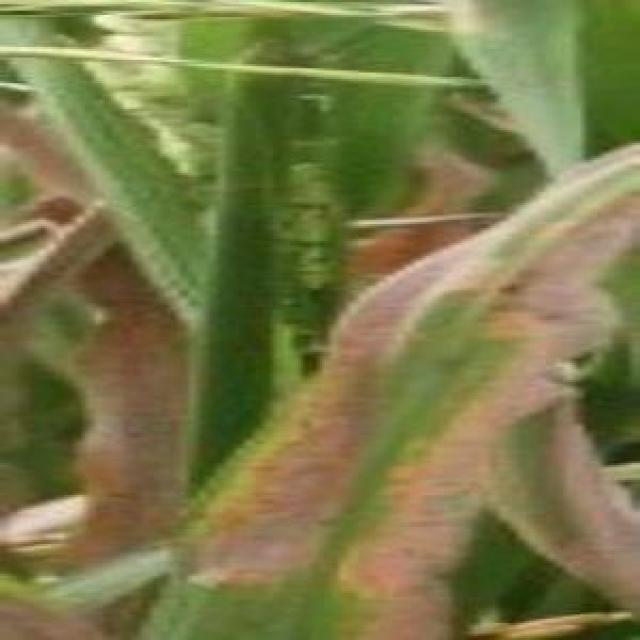Bacterial_Blight: (337, 185, 640, 606), (177, 229, 500, 593), (0, 106, 179, 546)
